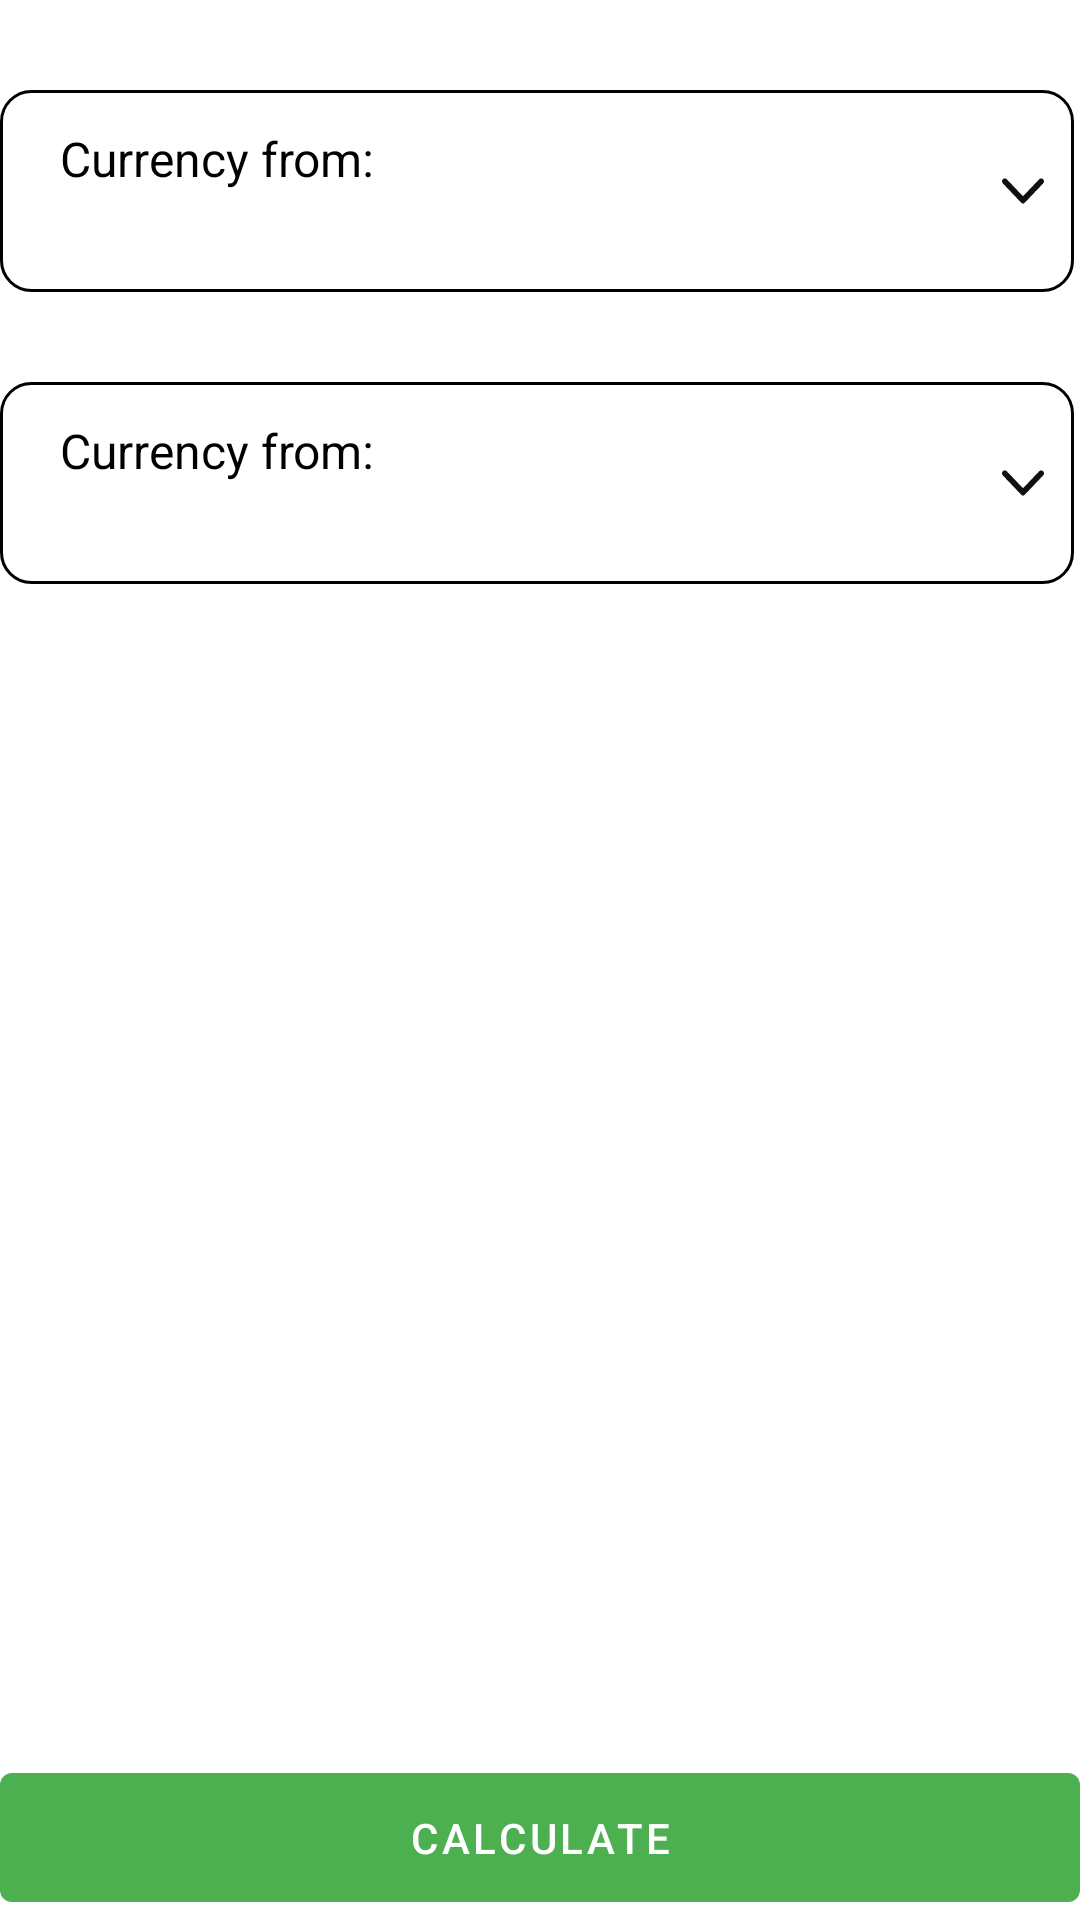

Screen size 1080*1920. Icon name, then its center in pixels as (x=x, y=y):
dropdown: (x=1023, y=191), (x=1023, y=483)
